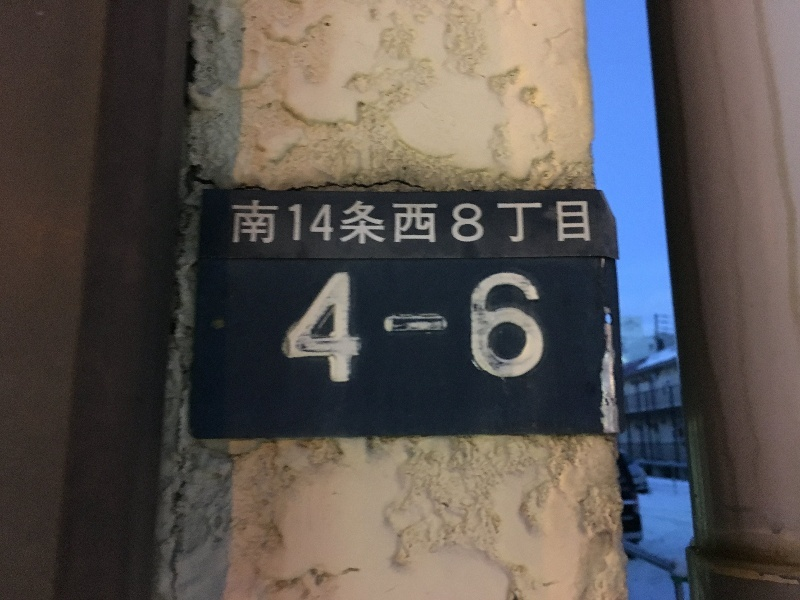text: (529, 271, 545, 383), (289, 271, 304, 383), (305, 271, 320, 383), (321, 271, 336, 383), (337, 271, 352, 383), (353, 271, 368, 383), (369, 271, 384, 383), (385, 271, 400, 383), (401, 271, 416, 383), (417, 271, 432, 383), (433, 271, 448, 383), (449, 271, 464, 383), (465, 271, 480, 383), (481, 271, 496, 383), (497, 271, 512, 383), (513, 271, 528, 383), (282, 271, 288, 383), (241, 199, 256, 243), (257, 199, 272, 243), (273, 199, 288, 243), (289, 199, 304, 243), (305, 199, 320, 243), (321, 199, 336, 243), (337, 199, 352, 243), (353, 199, 368, 243), (369, 199, 384, 243), (385, 199, 400, 243), (401, 199, 416, 243), (417, 199, 432, 243), (433, 199, 448, 243), (449, 199, 464, 243), (465, 199, 480, 243), (481, 199, 496, 243), (497, 199, 512, 243), (513, 199, 528, 243), (529, 199, 544, 243), (545, 199, 560, 243), (561, 199, 576, 243), (577, 199, 591, 243), (232, 199, 240, 243)
